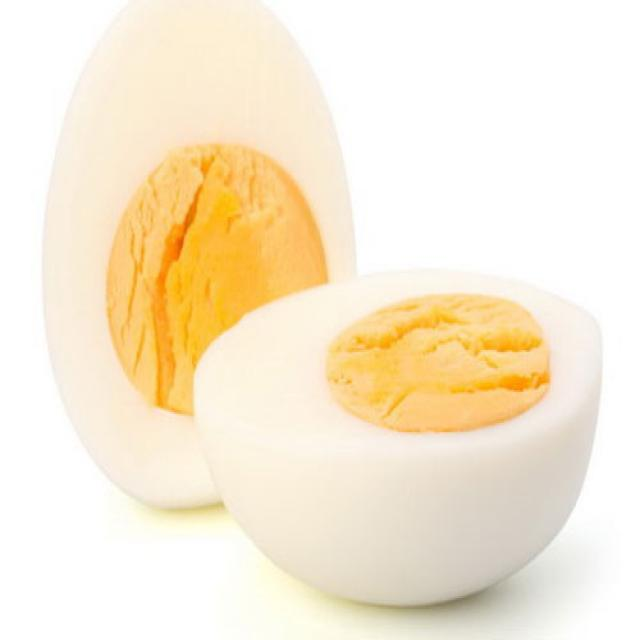trung luoc: (42, 0, 355, 505), (195, 270, 602, 604)
